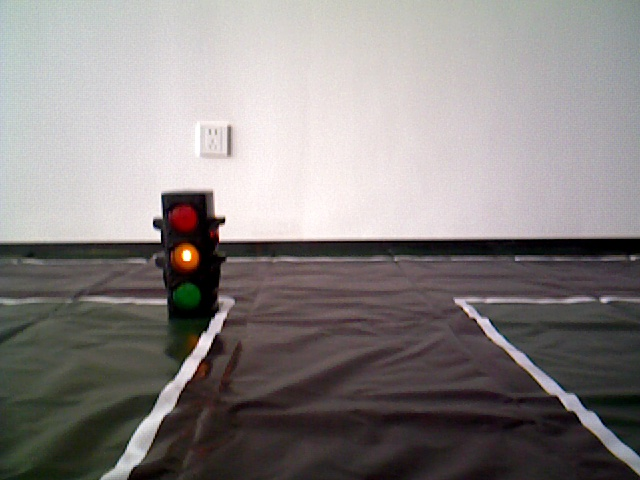yellow: (153, 189, 223, 316)
